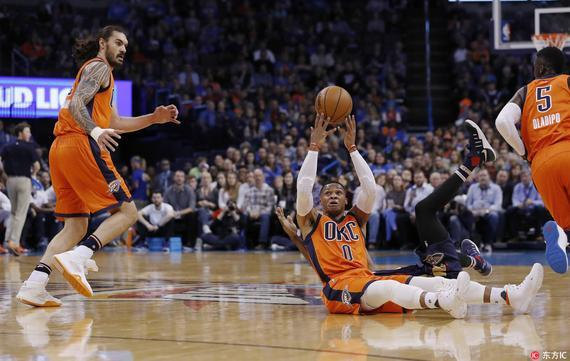10+: (1, 1, 564, 309)
down: (283, 109, 550, 324), (273, 117, 502, 300)
